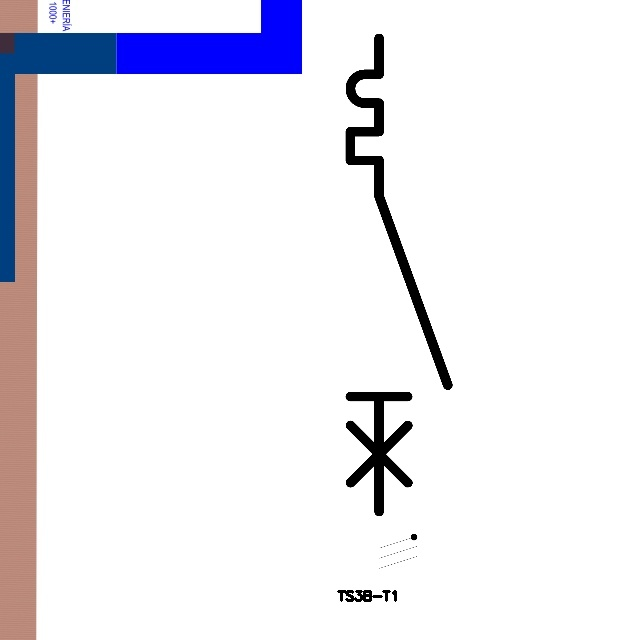interruptor_termomagnetico: (338, 26, 459, 523)
